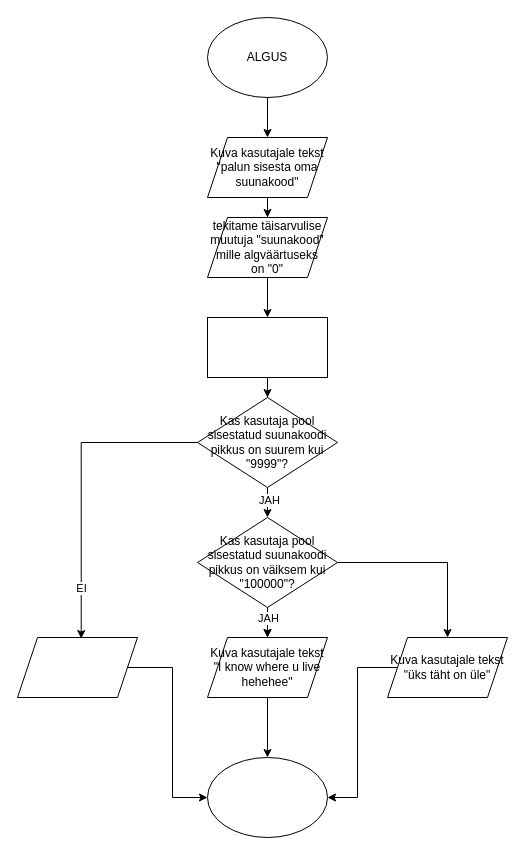
This 525x855 diagram has some shape labels left out. The shapes that lost their labels are listed below. From the top down, each one's box as (x1, y1, x2, y2) in pixels, then its label:
(206, 316, 328, 378): Ootame kuni kasutaja sisestab suunakoodi
(16, 636, 138, 698): Kuva kasutajale tekst "üks täht on puudu"
(206, 756, 328, 838): LÕPP
